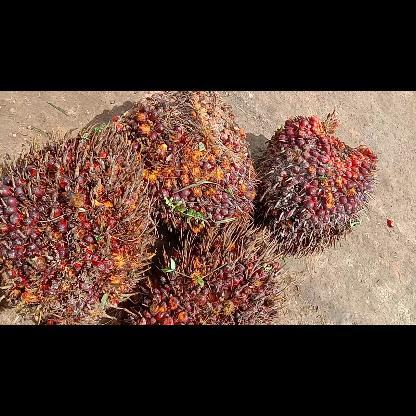TBS masak: (0, 120, 158, 324), (112, 91, 260, 233), (256, 116, 376, 257), (126, 220, 286, 324)
